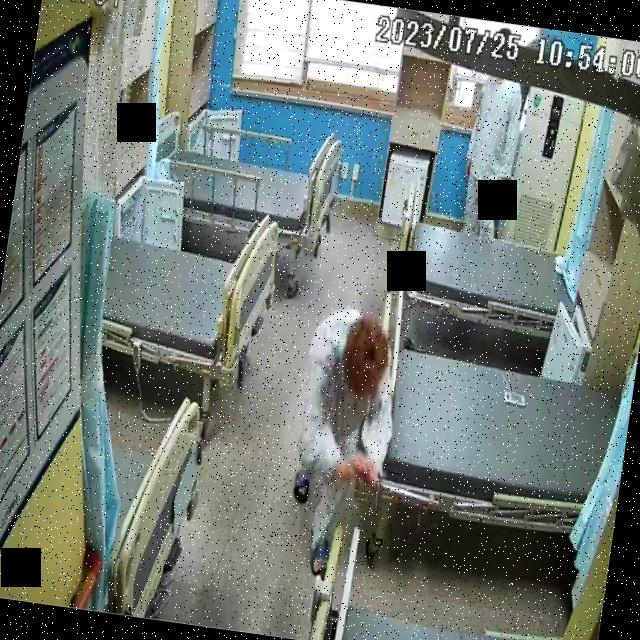bed: (371, 338, 627, 542), (93, 194, 288, 392), (146, 110, 346, 256), (390, 194, 586, 340)
danger: (277, 299, 407, 582)
patient: (278, 298, 406, 582)
